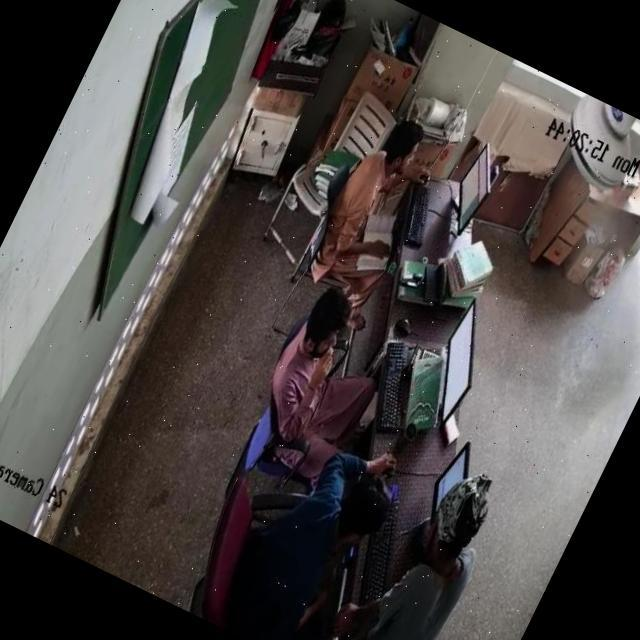person: (221, 422, 403, 640), (353, 465, 517, 640), (254, 280, 398, 458), (318, 113, 438, 285)
